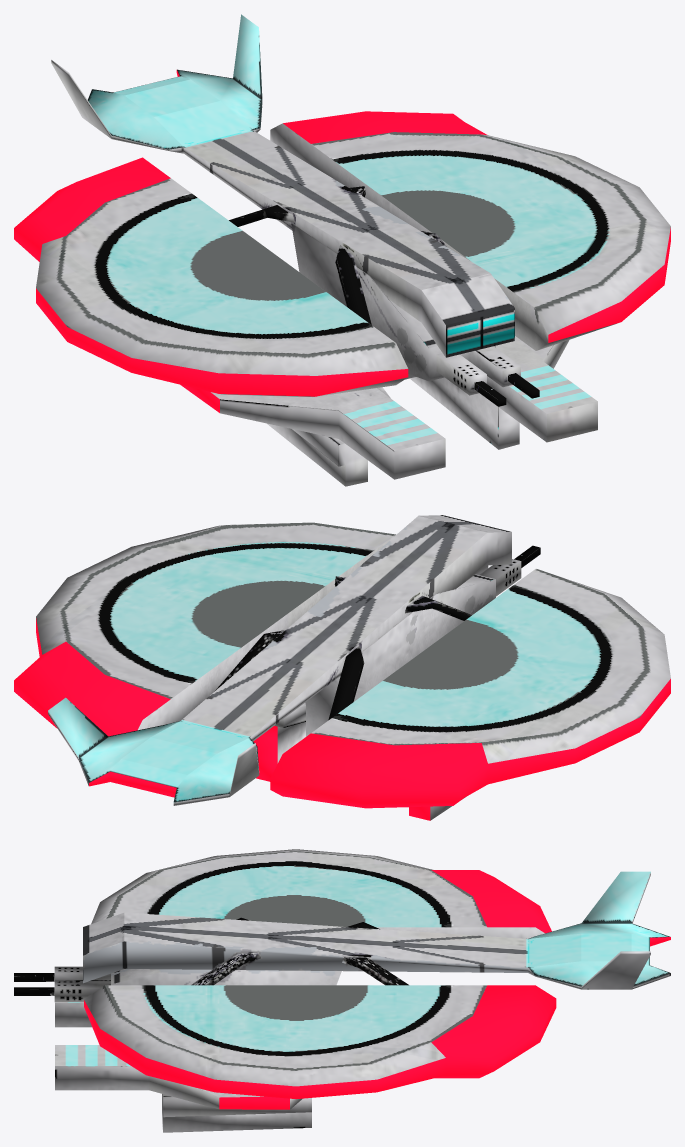
File: Enforcer.fbx
3 views of the same model, one above another, from view 1: azimuth 30°, elevation 25°; view 2: azimuth 150°, elevation 25°; view 3: azimuth 270°, elevation 25° (orthographic). The views are drawn at different scales.
Parts seen in each view (by area): view 1: Enforcer_LOD0; view 2: Enforcer_LOD0; view 3: Enforcer_LOD0.
Part boxes in pixels (left/top/right/bottom): Enforcer_LOD0: left=14, top=14, right=670, bottom=486; Enforcer_LOD0: left=14, top=515, right=670, bottom=820; Enforcer_LOD0: left=14, top=849, right=670, bottom=1132.
Size of what is drawn, in the model's own units: 596 by 218 by 697.
2 materials, 1 textured.
